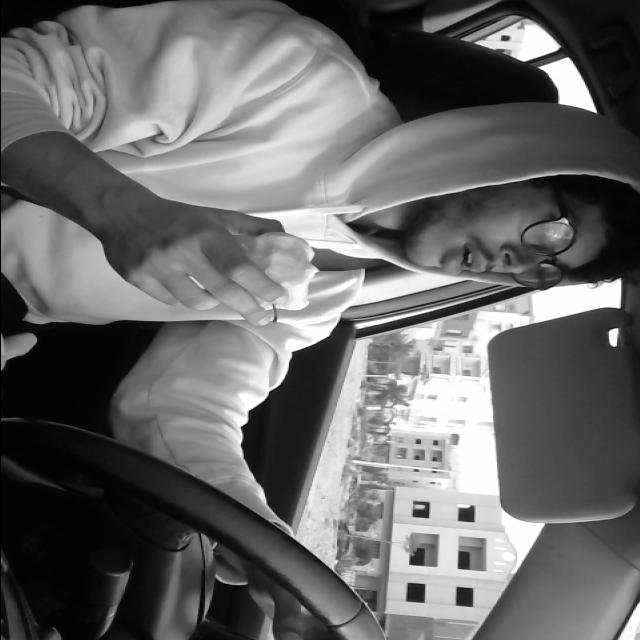eating: (240, 230, 322, 324)
